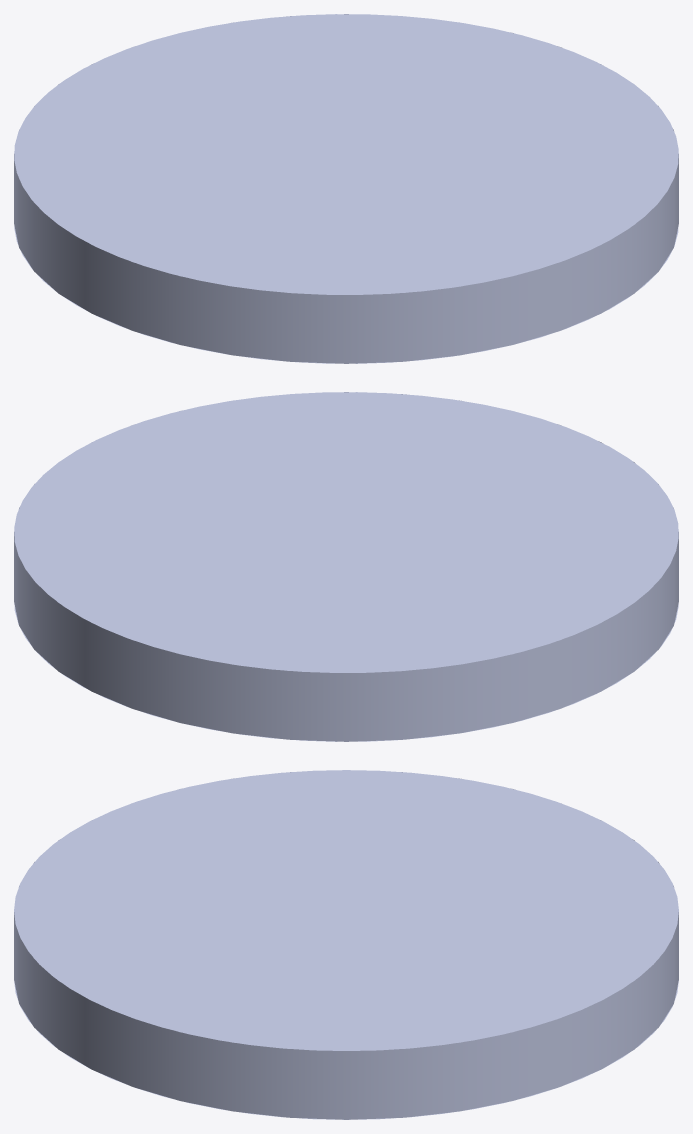
3 renders of one model, top to bottom at view 1: azimuth 30°, elevation 25°; view 2: azimuth 150°, elevation 25°; view 3: azimuth 270°, elevation 25°, orthographic.
Visible parts, largest first — view 1: base_219.IGS (×4); view 2: base_219.IGS (×4); view 3: base_219.IGS (×4).
Boxes of the visible parts, x1=… form: base_219.IGS (×4): x1=14, y1=14, x2=678, y2=363; base_219.IGS (×4): x1=14, y1=392, x2=678, y2=741; base_219.IGS (×4): x1=14, y1=770, x2=678, y2=1119.
Bounding box in the file's own units: 0.219 × 0.025 × 0.219.
